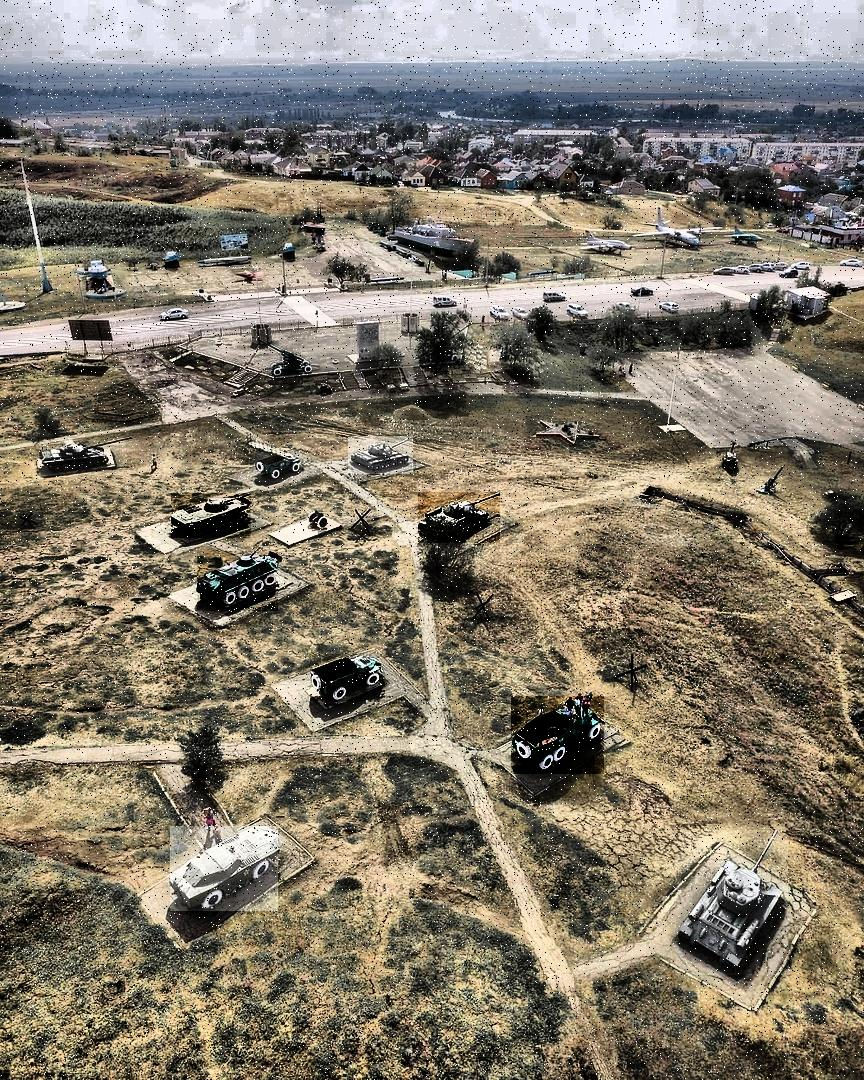military-vehicle: (675, 830, 788, 975), (170, 827, 278, 912), (512, 697, 605, 775), (197, 552, 278, 612), (418, 492, 500, 543), (172, 493, 252, 538), (310, 655, 385, 702), (40, 438, 127, 475), (348, 437, 413, 475), (253, 453, 302, 482)
